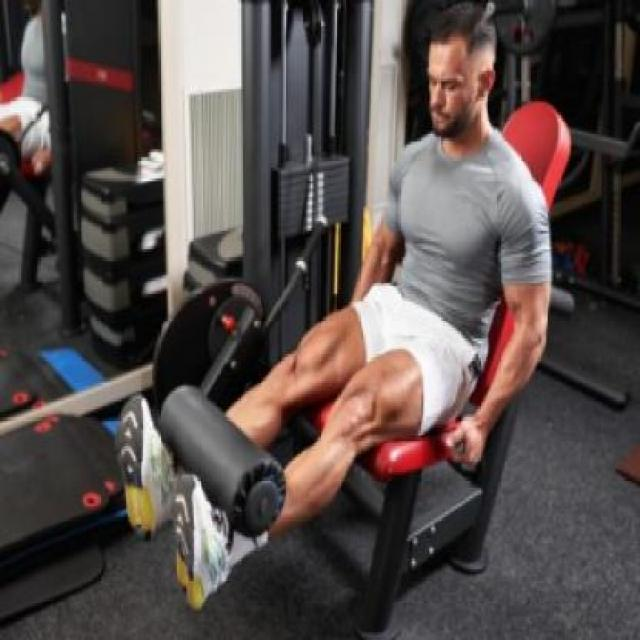leg extension: (105, 0, 597, 640)
